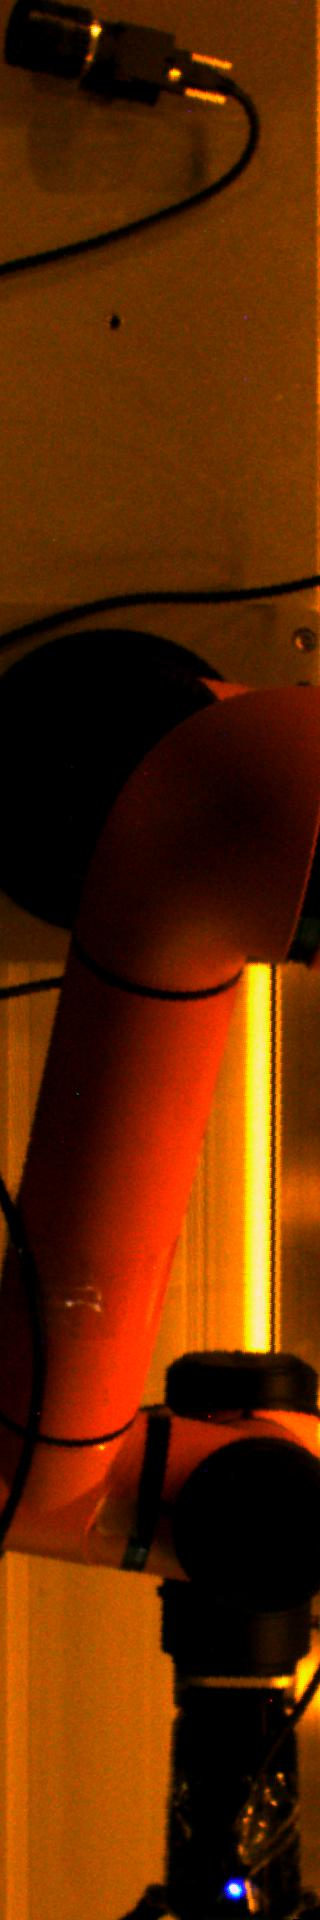keyPoint_1: (219, 1873, 250, 1903)
keyPoint_2: (99, 309, 129, 339)
